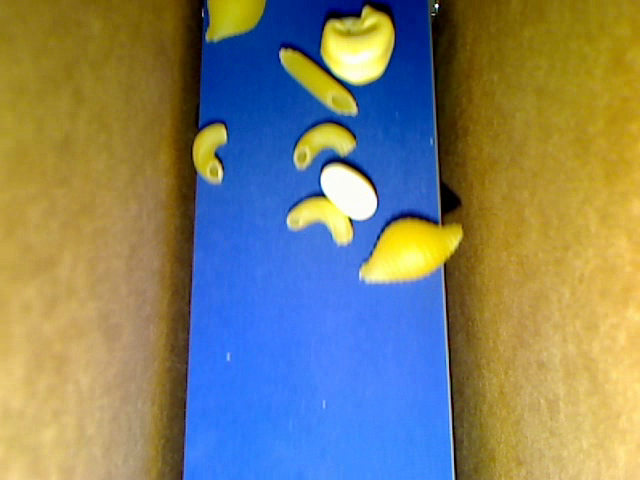elbow: (284, 196, 353, 246), (293, 120, 356, 169), (192, 122, 226, 183)
penne: (280, 48, 357, 115)
shell: (359, 217, 463, 283), (204, 1, 266, 43)
tortellini: (321, 6, 395, 84)
